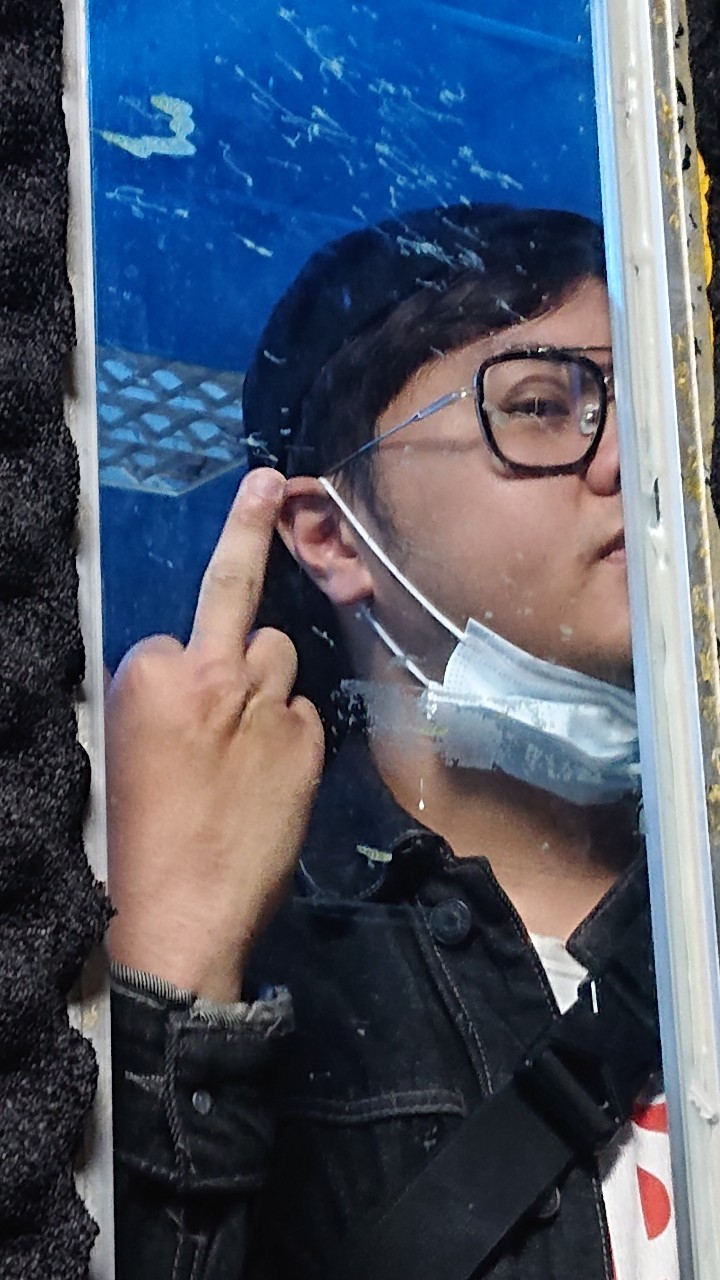people: (120, 219, 673, 1280)
